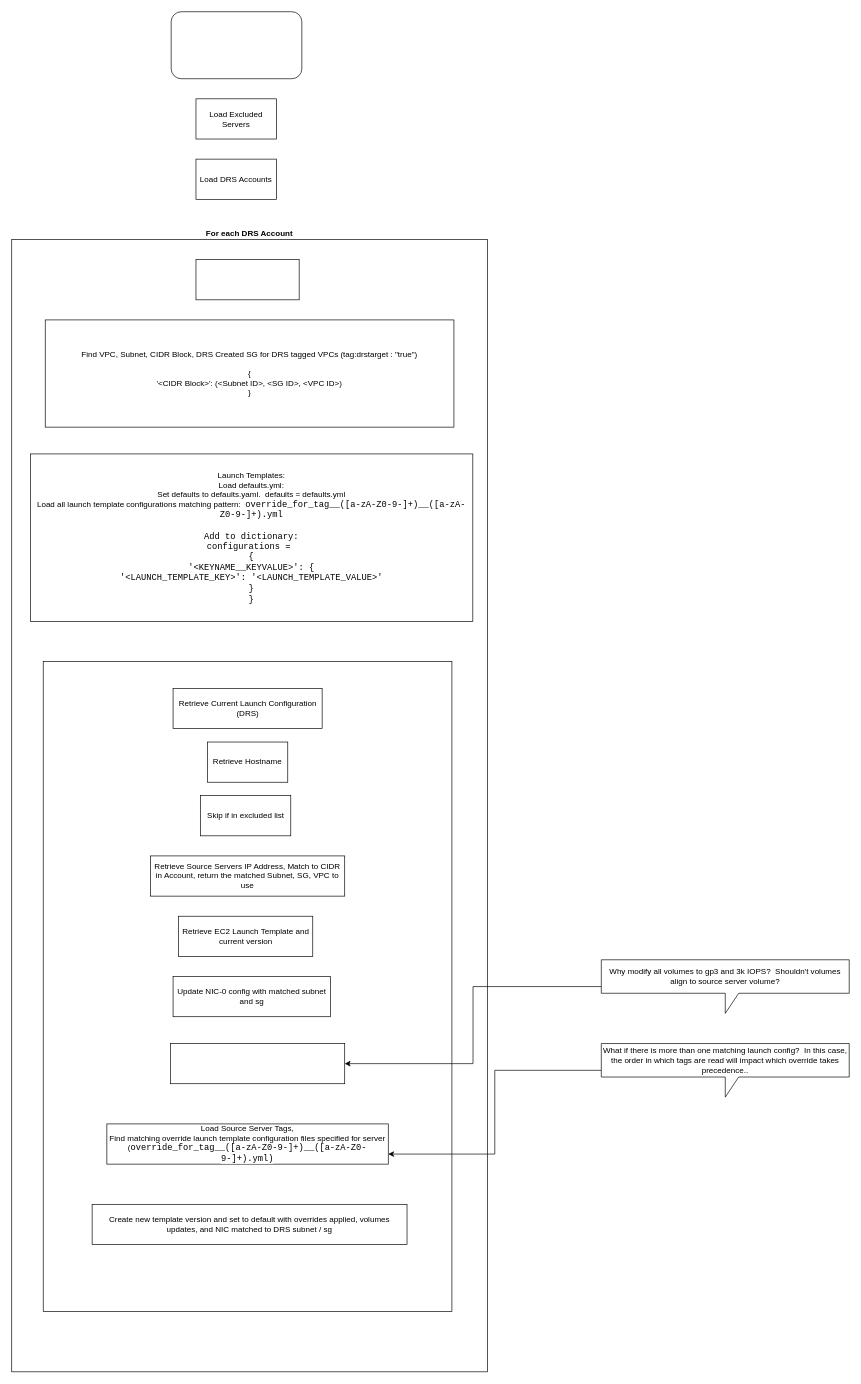
This 861x1384 diagram has some shape labels left out. The shapes that lost their labels are listed below. From the top down, each one's box as (x1, y1, x2, y2) in pixels, then its label:
(171, 11, 302, 79): Load Host <-> Tag Mapping { <Name> : <Priority Group> }
(195, 259, 299, 300): AssumeRole Into Account for EC2 / DRS Clients
(43, 661, 452, 1312): For each DRS Source Server
(170, 1043, 345, 1084): Modify volumes to GP3 with 3K IOPS
